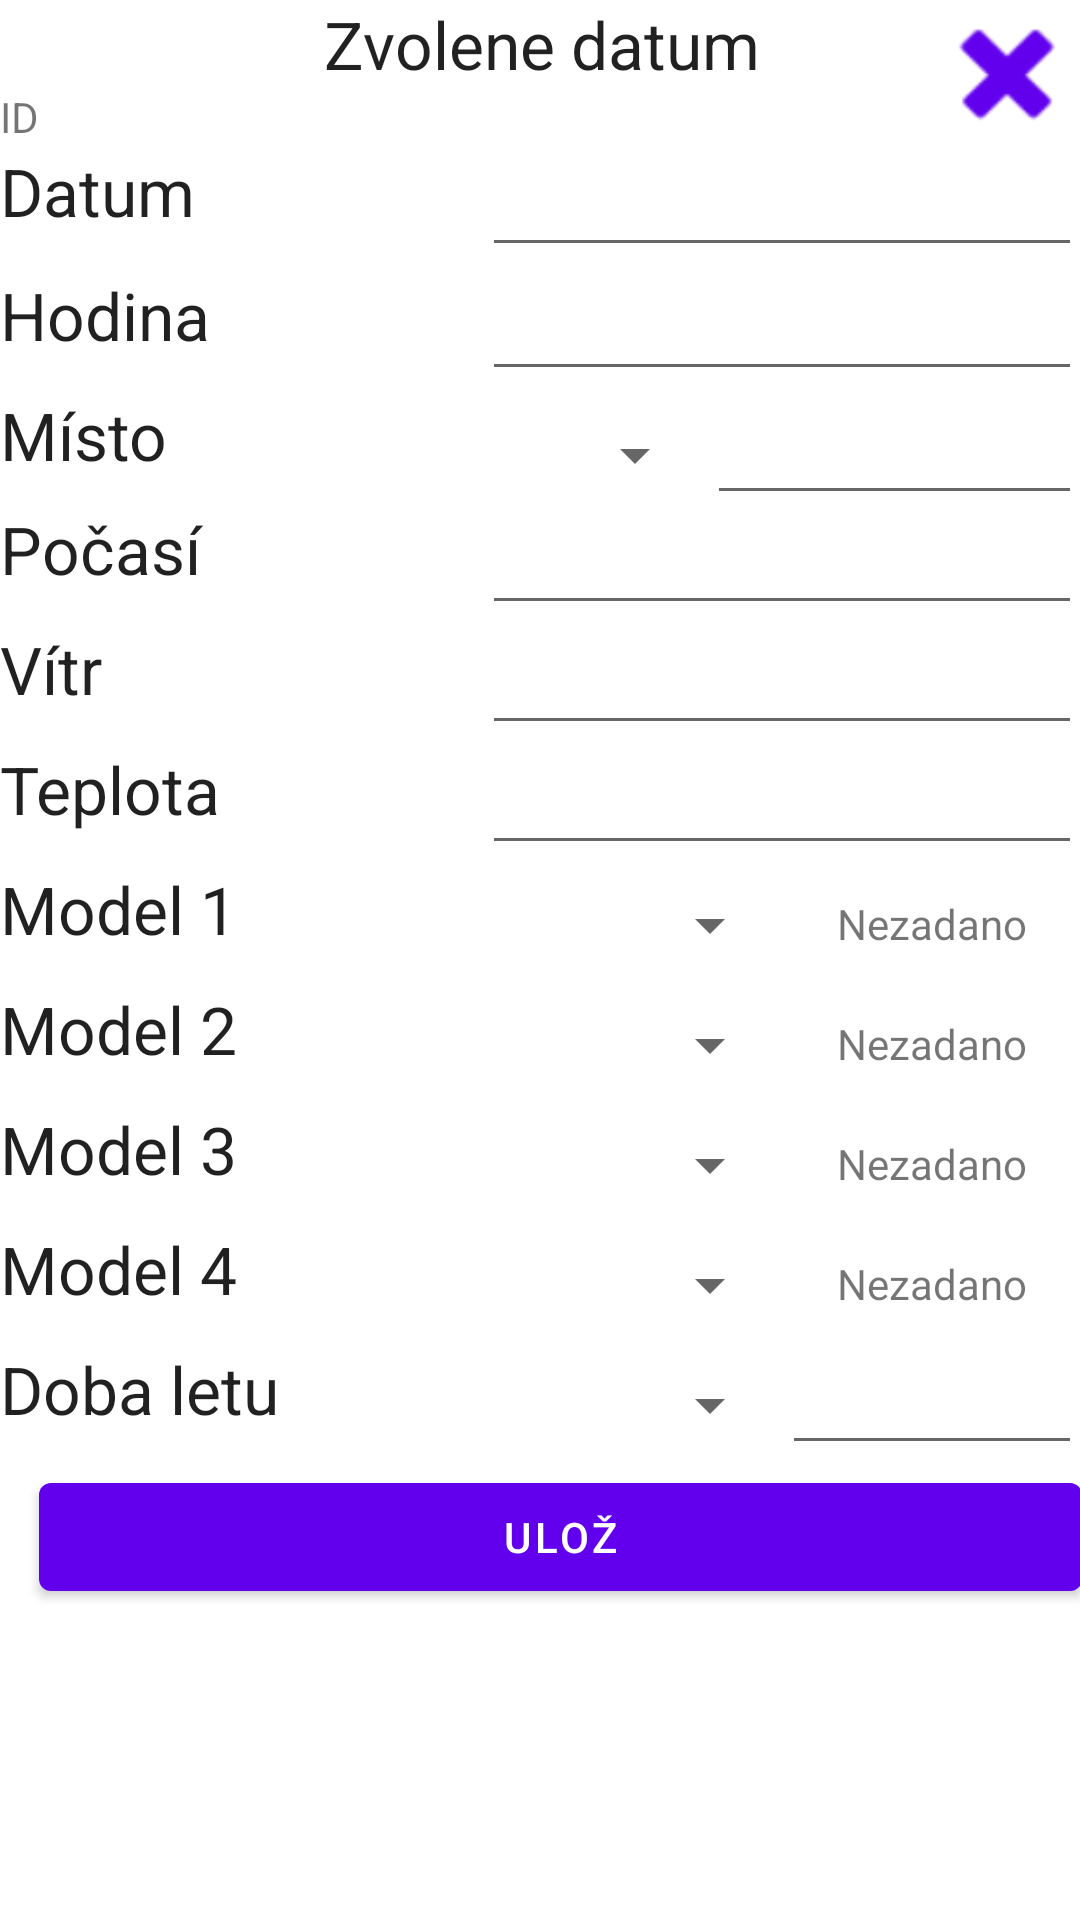

Icon bounding boxes for this 1080 x 1920 phone screenshot, format (x1, y1, x2, y2):
delete: (959, 29, 1055, 120)
